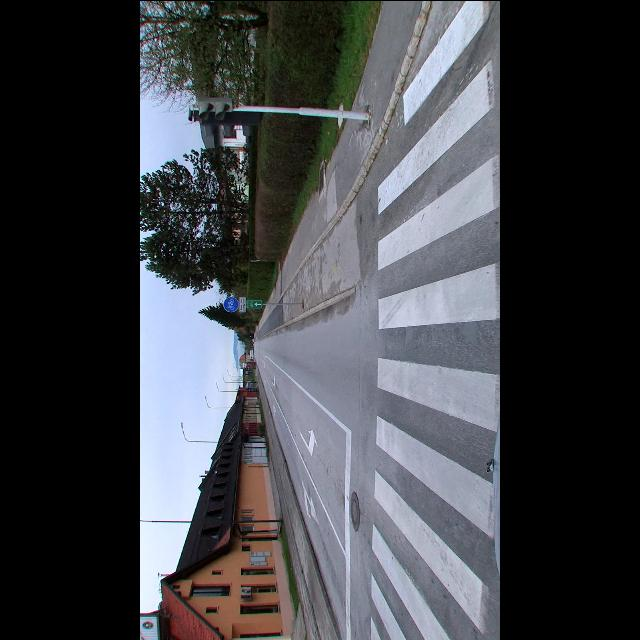Rectangle: (246, 299, 262, 307), (240, 296, 246, 310)
Round: (222, 296, 240, 310)
